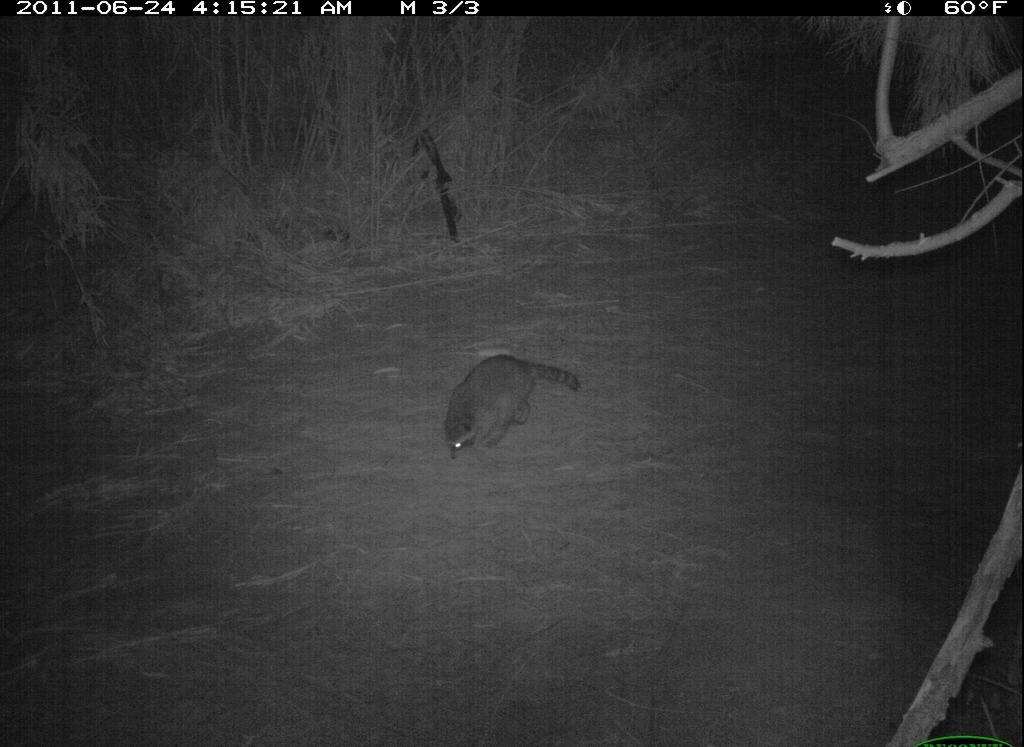raccoon: (440, 350, 587, 464)
